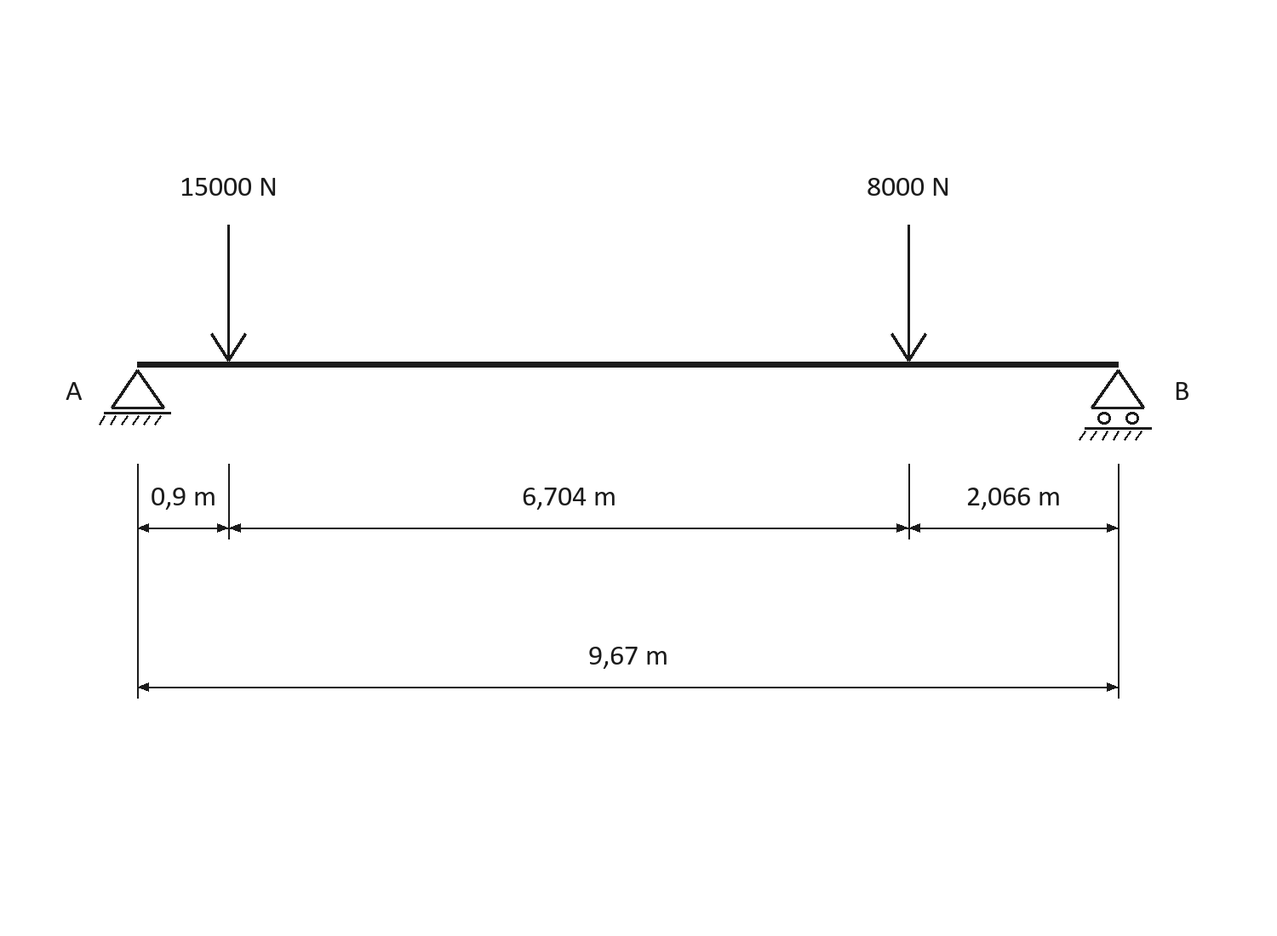pin_support: (99, 369, 171, 425)
point_load: (210, 225, 247, 362), (890, 225, 927, 362)
roller_support: (1079, 369, 1152, 441)
